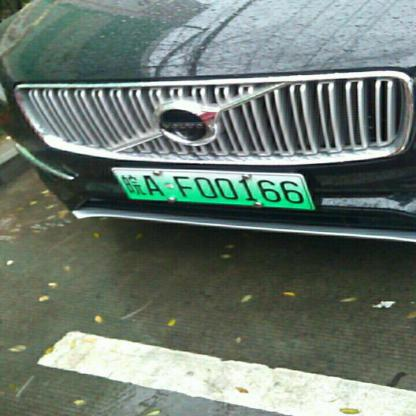lp: (113, 170, 311, 208)
